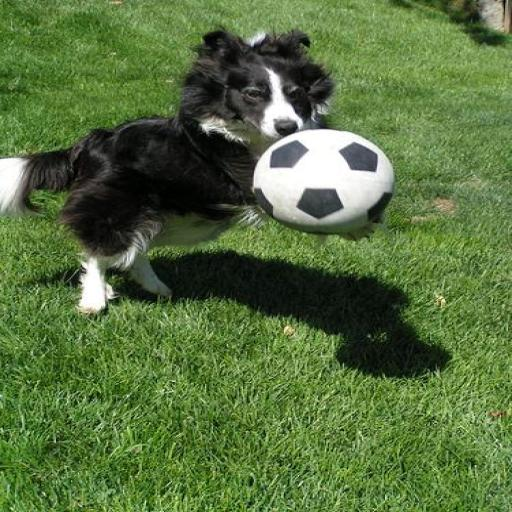dog_face: (180, 27, 351, 140)
